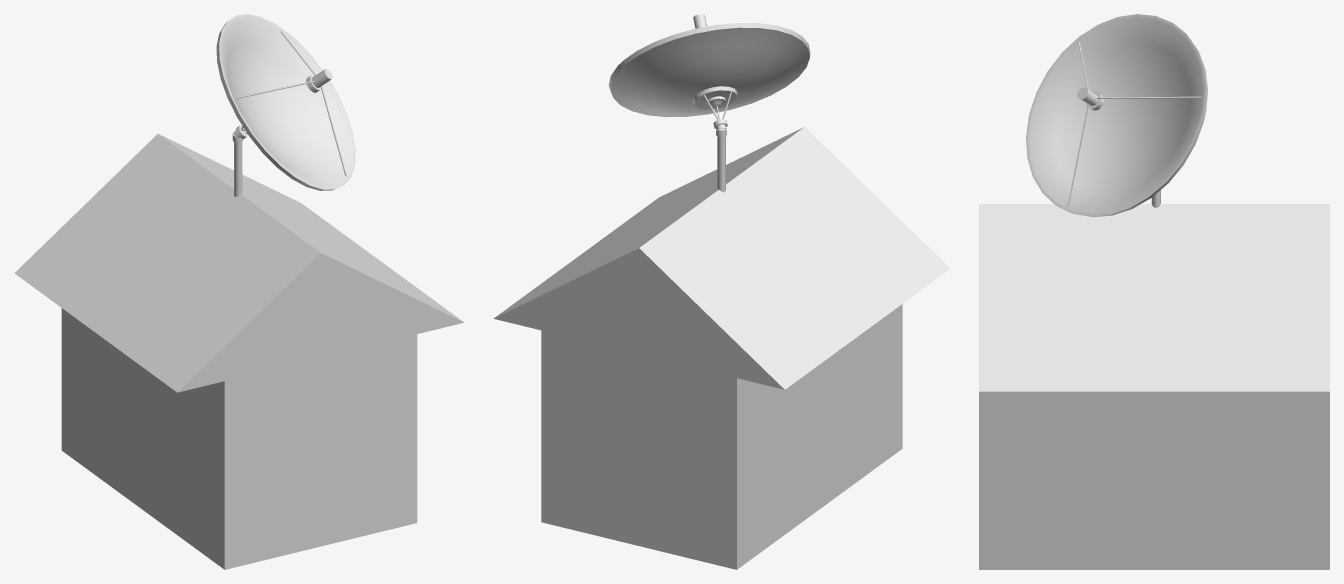
Rendered from 地面站.gltf.
3 renders of one model, left to right at view 1: azimuth 30°, elevation 25°; view 2: azimuth 150°, elevation 25°; view 3: azimuth 270°, elevation 25°, orthographic. The views are drawn at different scales.
Parts seen in each view (by area): view 1: 地面站; view 2: 地面站; view 3: 地面站.
Boxes of the visible parts, <box> form: 地面站: <box>14,14,463,569</box>; 地面站: <box>493,14,950,569</box>; 地面站: <box>979,14,1329,569</box>.
Bounding box in the file's own units: 0.9478 × 1.45 × 0.9324.
1 material, 1 textured.
